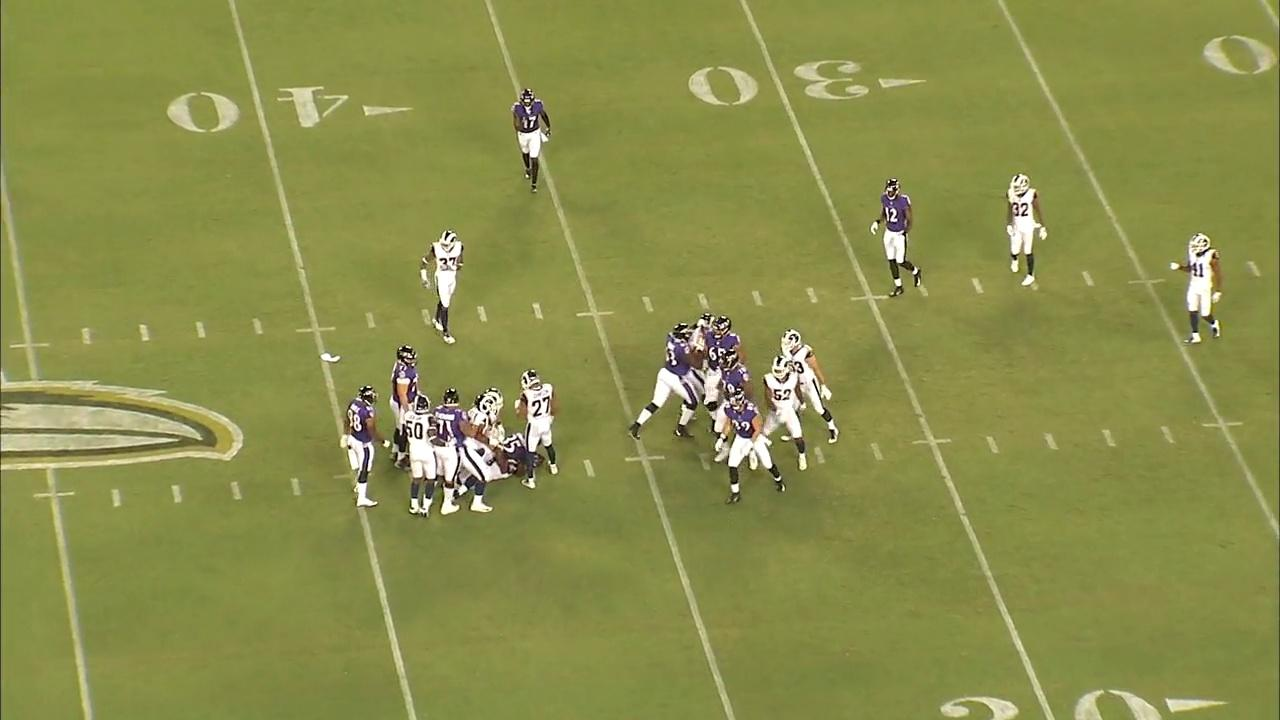five_hash: (1200, 418, 1245, 432), (31, 489, 78, 502), (621, 452, 669, 464), (847, 293, 892, 305), (909, 436, 953, 448), (1124, 276, 1170, 287), (573, 309, 619, 319), (294, 325, 339, 335), (8, 341, 50, 350)
hash: (1040, 428, 1064, 455), (1098, 425, 1121, 453), (248, 314, 270, 343), (526, 300, 550, 326), (577, 454, 599, 481), (1156, 424, 1180, 448), (132, 321, 154, 347), (416, 305, 436, 332), (473, 301, 492, 329), (166, 483, 189, 506), (284, 474, 306, 498), (1244, 257, 1265, 282), (107, 486, 127, 512), (981, 432, 1003, 455), (191, 317, 210, 343), (638, 294, 659, 317), (226, 479, 247, 502), (866, 440, 887, 463), (361, 310, 381, 334), (967, 274, 986, 297), (694, 290, 712, 314), (749, 287, 767, 311), (811, 442, 829, 466), (802, 285, 821, 307), (1078, 268, 1097, 290), (79, 325, 94, 348)
number: (163, 78, 351, 139), (682, 54, 875, 112)
